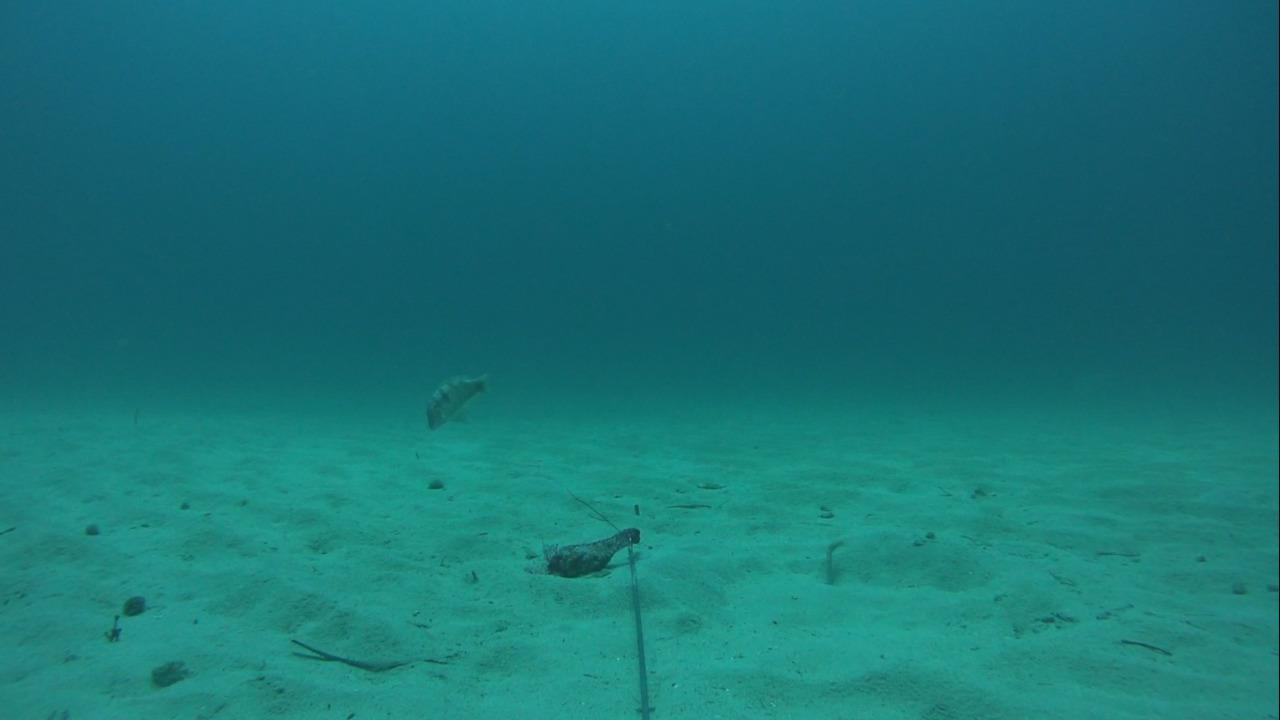raor: (420, 368, 491, 433)
